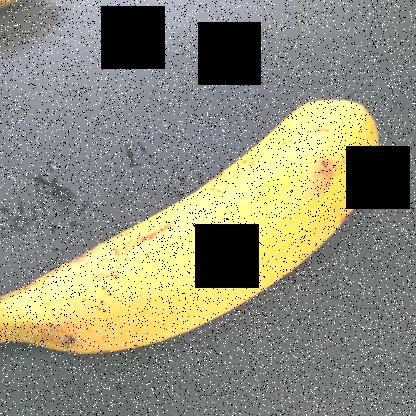ripe: (0, 98, 389, 361)
